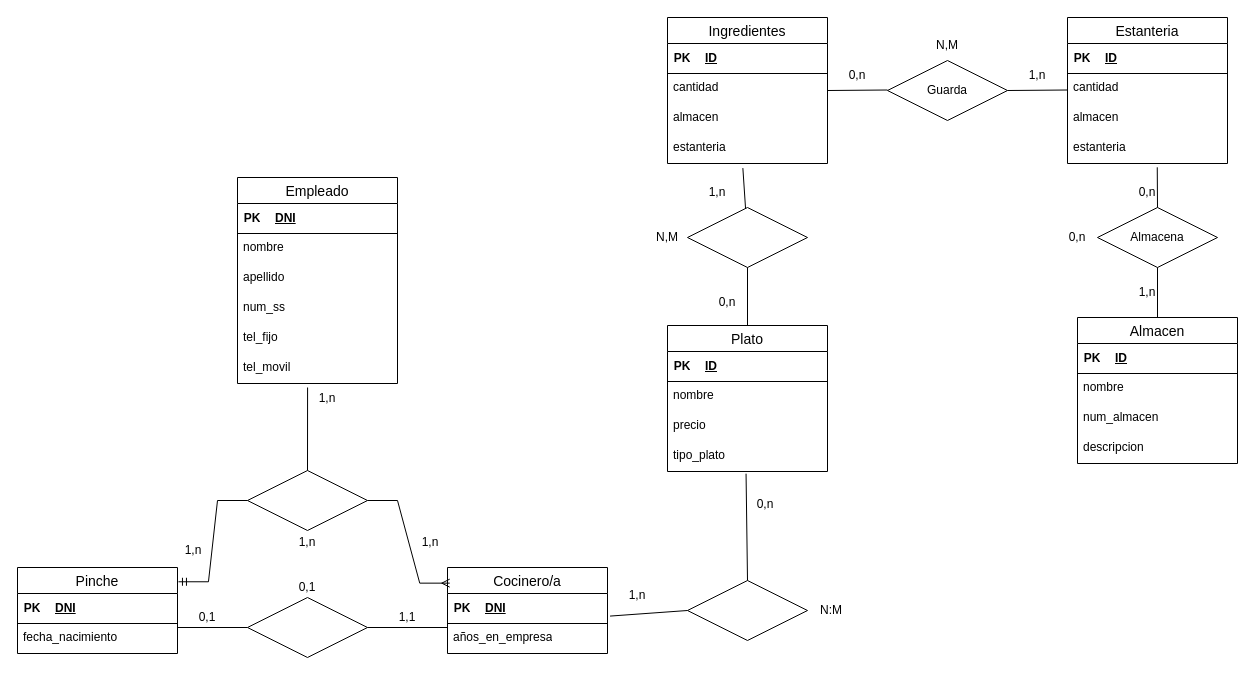
Some shapes in this 1255 by 675 pixel diagram are drawn without their labels. The centre of each missing label's shape, as x and y in pixels:
"Ayuda" goes at (x=307, y=627).
"Cocina" goes at (x=747, y=610).
"Elabora" goes at (x=747, y=237).
"Trabaja" goes at (x=307, y=500).
